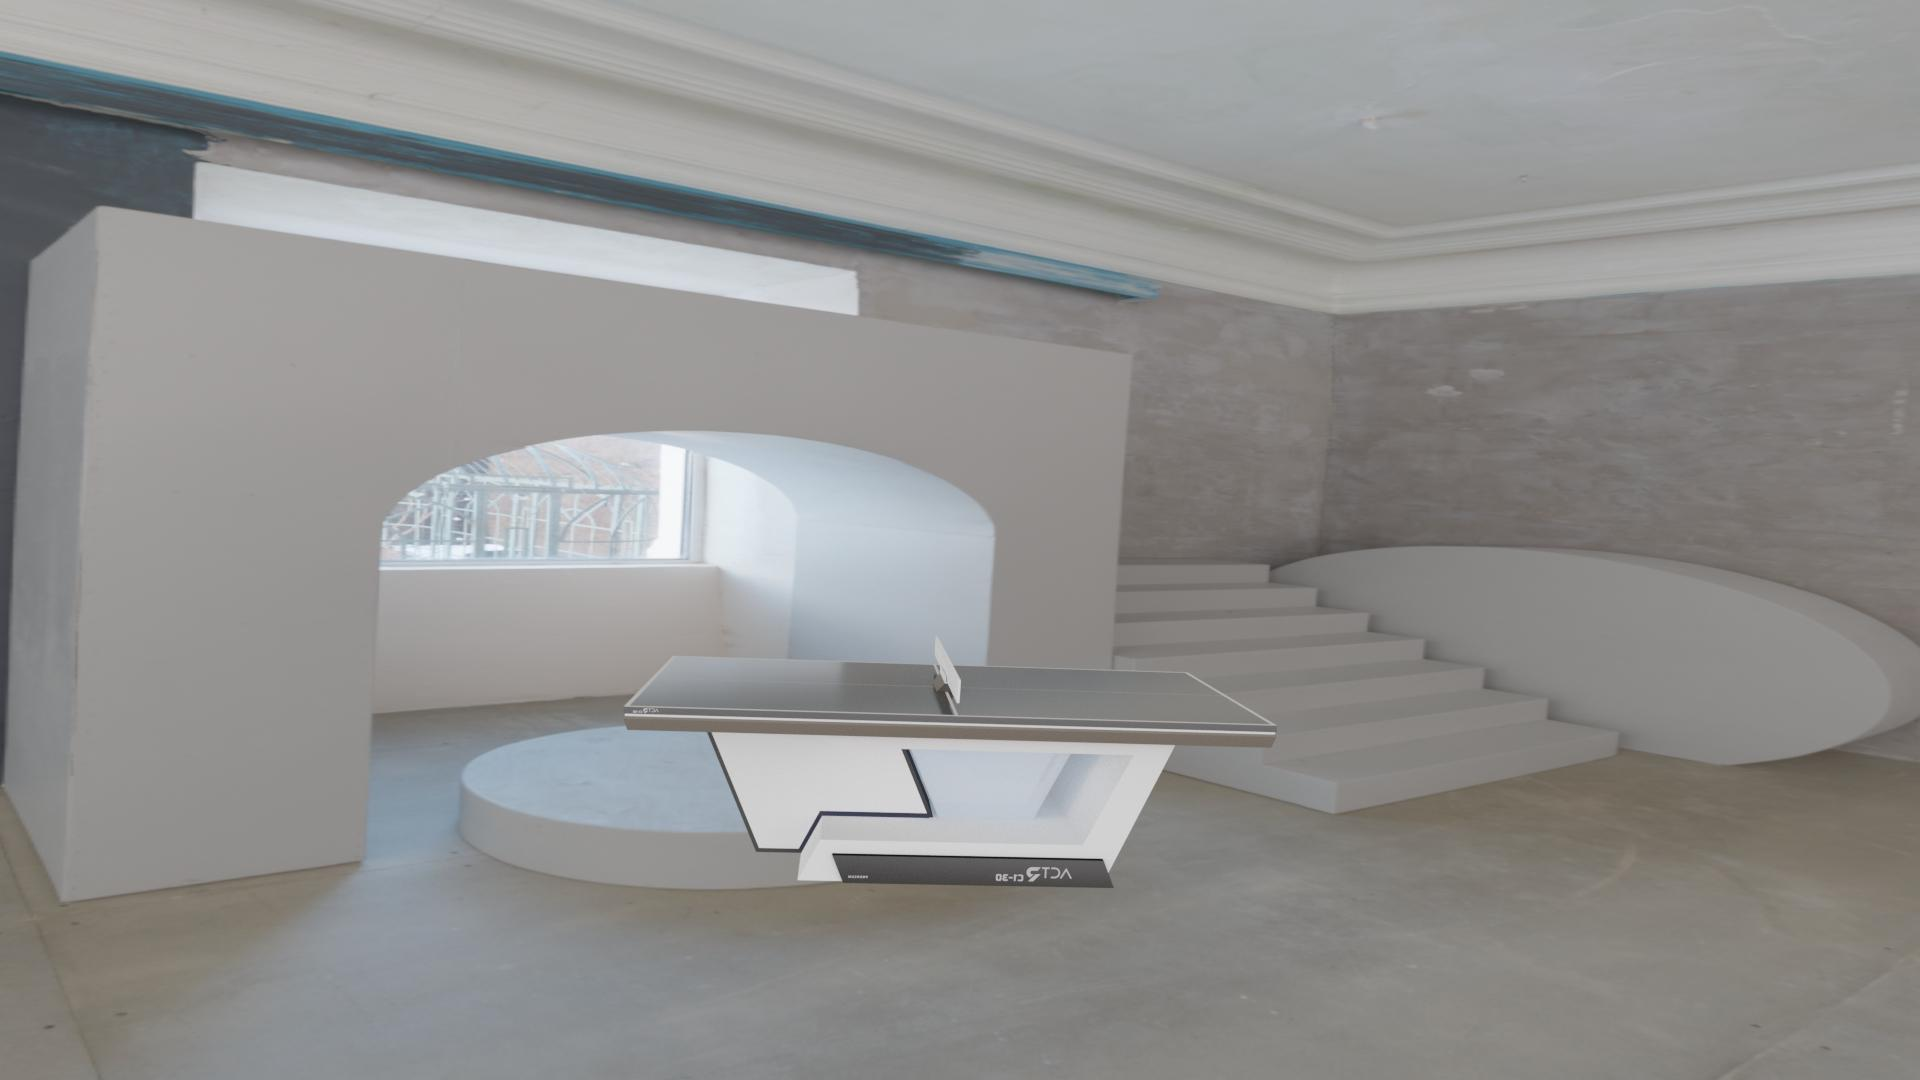table: (629, 657, 1271, 724)
